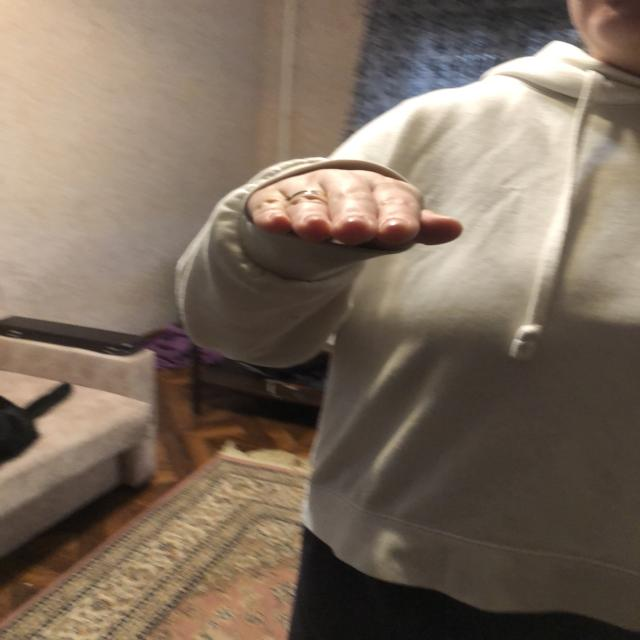paper: (253, 172, 462, 243)
